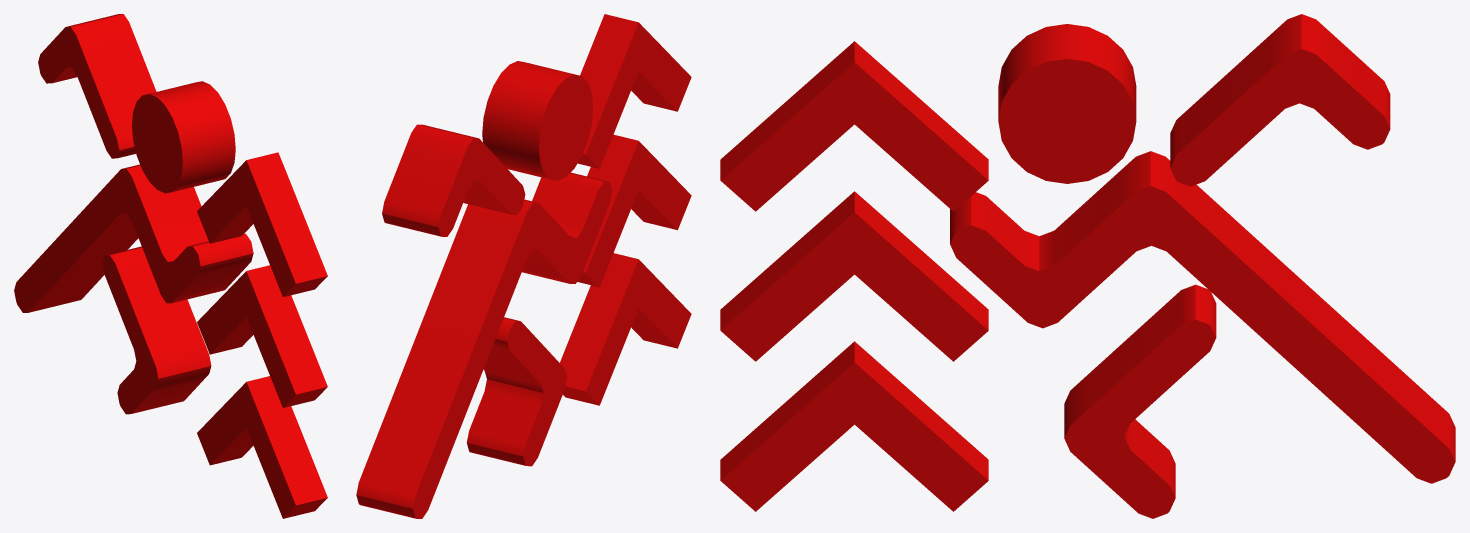
File: SPEED_UP_ACTIVE.fbx
3 views of the same model, side by side, from view 1: azimuth 30°, elevation 25°; view 2: azimuth 150°, elevation 25°; view 3: azimuth 270°, elevation 25° (orthographic). The views are drawn at different scales.
Visible parts, largest first — view 1: Icon_Faster5; view 2: Icon_Faster5; view 3: Icon_Faster5.
Part boxes in pixels (<box>): Icon_Faster5: <box>14,14,327,518</box>; Icon_Faster5: <box>356,14,691,518</box>; Icon_Faster5: <box>720,14,1455,518</box>.
Size of the model in its own units: 1 by 6.26 by 8.88.
